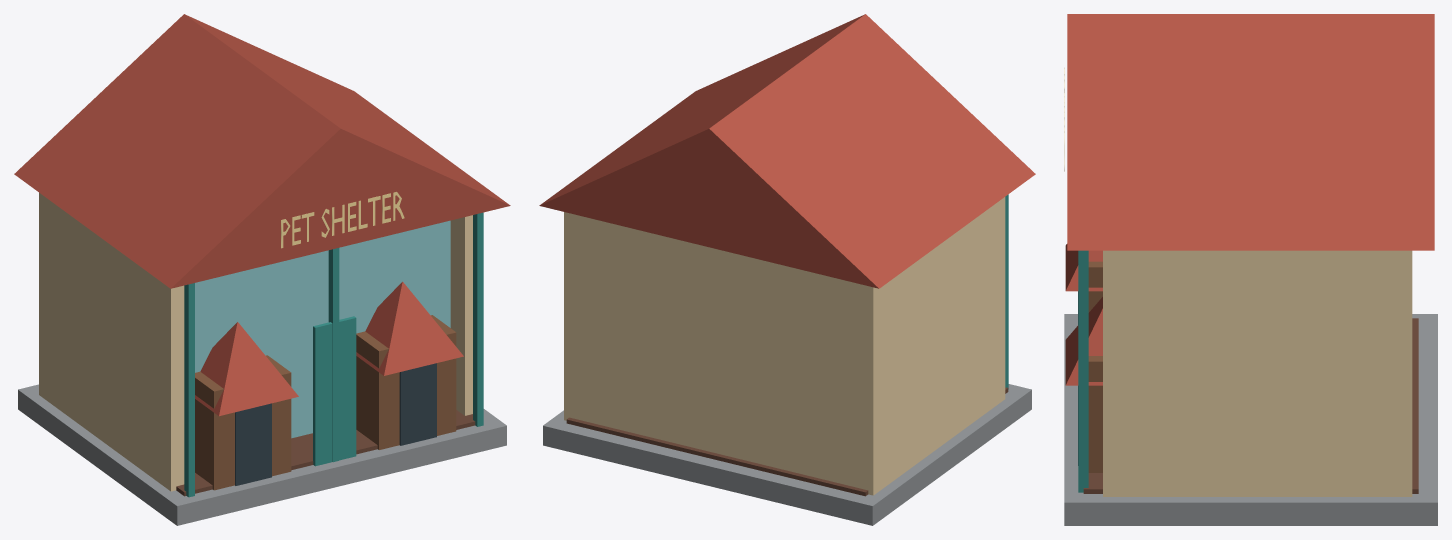
File: pet_shelter.glb
3 renders of one model, left to right at view 1: azimuth 30°, elevation 25°; view 2: azimuth 150°, elevation 25°; view 3: azimuth 270°, elevation 25°, orthographic. The views are drawn at different scales.
Visible parts, largest first — view 1: gable_roof, side_wall, window_back, foundation, kennel.001, kennel, door, kennel_roof.001, kennel_roof, side_wall.001, kennel_door.001, kennel_door (+6 smaller); view 2: gable_roof, rear_wall, side_wall, foundation, floor, front_post; view 3: gable_roof, side_wall.001, foundation, rear_wall, front_post.002, kennel.001, kennel_roof.001, floor, kennel_roof, kennel.
Boxes of the visible parts, <box> form: gable_roof: <box>14,14,510,288</box>; side_wall: <box>44,197,184,491</box>; window_back: <box>195,220,450,438</box>; foundation: <box>18,384,506,525</box>; kennel.001: <box>356,315,456,449</box>; kennel: <box>195,355,291,490</box>; door: <box>313,316,356,466</box>; kennel_roof.001: <box>356,281,463,375</box>; kennel_roof: <box>195,322,298,416</box>; side_wall.001: <box>450,215,472,415</box>; kennel_door.001: <box>399,363,436,445</box>; kennel_door: <box>235,403,271,485</box>; gable_roof: <box>539,14,1035,288</box>; rear_wall: <box>564,212,881,495</box>; side_wall: <box>879,197,1005,489</box>; foundation: <box>543,384,1031,525</box>; floor: <box>566,387,1008,496</box>; front_post: <box>1005,194,1008,389</box>; gable_roof: <box>1067,14,1434,250</box>; side_wall.001: <box>1103,250,1399,496</box>; foundation: <box>1064,314,1437,525</box>; rear_wall: <box>1393,250,1412,496</box>; front_post.002: <box>1078,250,1088,492</box>; kennel.001: <box>1088,356,1102,472</box>; kennel_roof.001: <box>1065,297,1102,385</box>; floor: <box>1083,318,1418,493</box>; kennel_roof: <box>1065,244,1102,291</box>; kennel: <box>1088,261,1102,312</box>.
Size of the model in its own units: 3.6 by 3.6 by 2.92.
